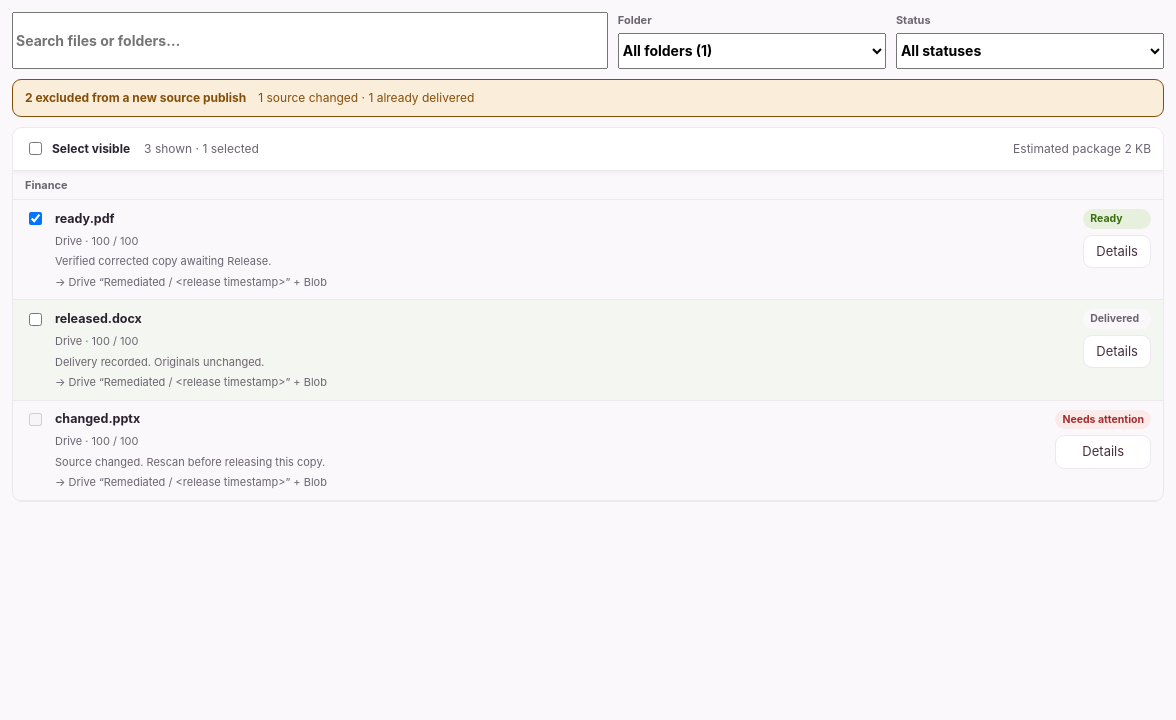
ReleaseFileSelection › filters by status and clears all filters from the empty state
Select "Source changed (1)" in the dropdown labelled "Status" at (1030, 50), box [896,32,1164,68]
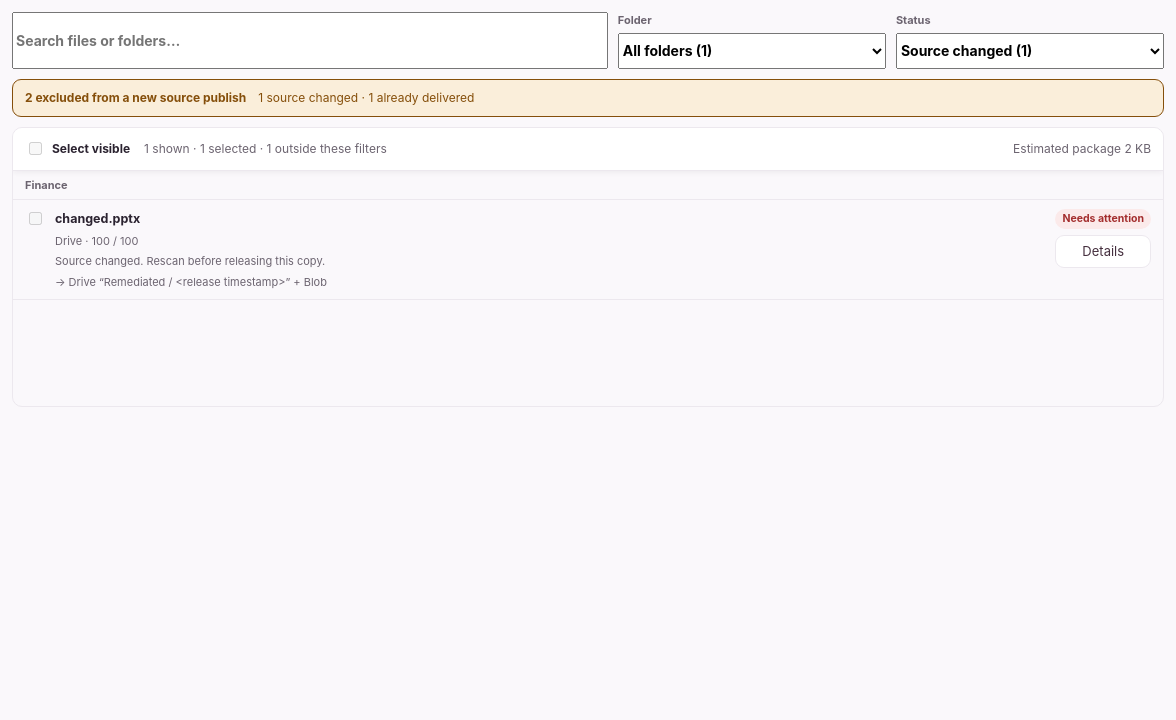
expect the text "changed.pptx" is shown: met, box [55,210,1046,228]
expect the text "ready.pdf" is gone: met
Select "Source unreachable (0)" in the dropdown labelled "Status" at (1030, 50), box [896,32,1164,68]
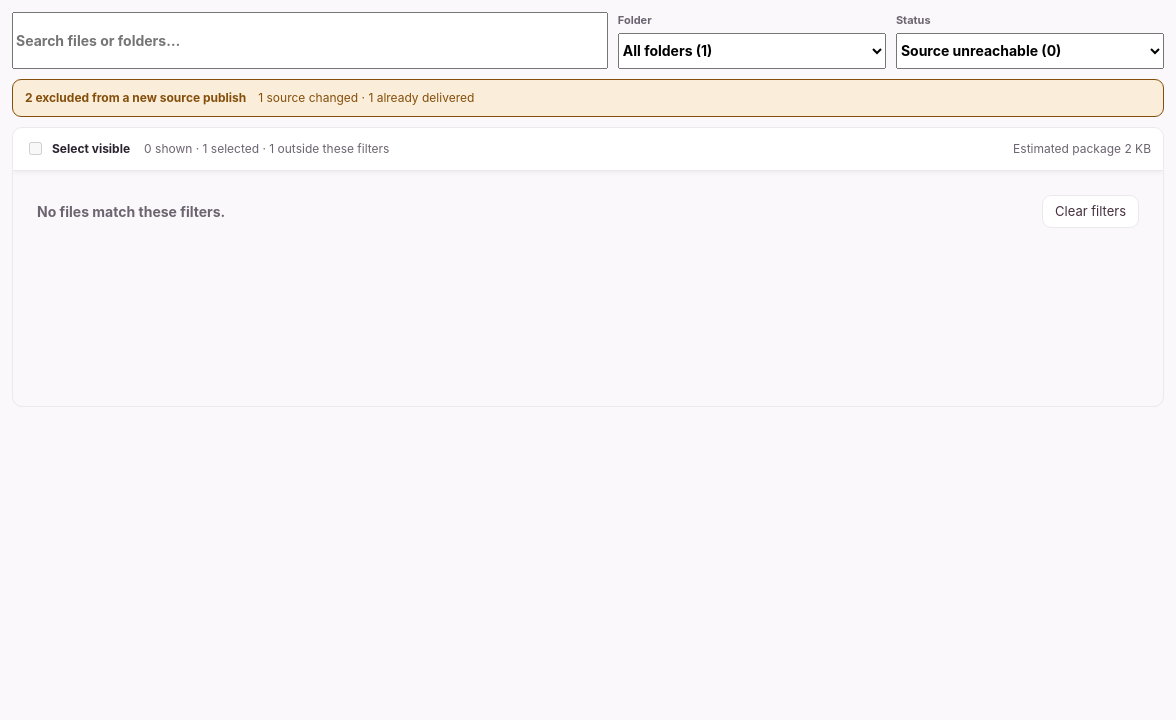
expect the text "No files match these filters" is shown: met, box [37,203,225,220]
Click the button "Clear filters" at (1090, 211), box [1042,194,1139,228]
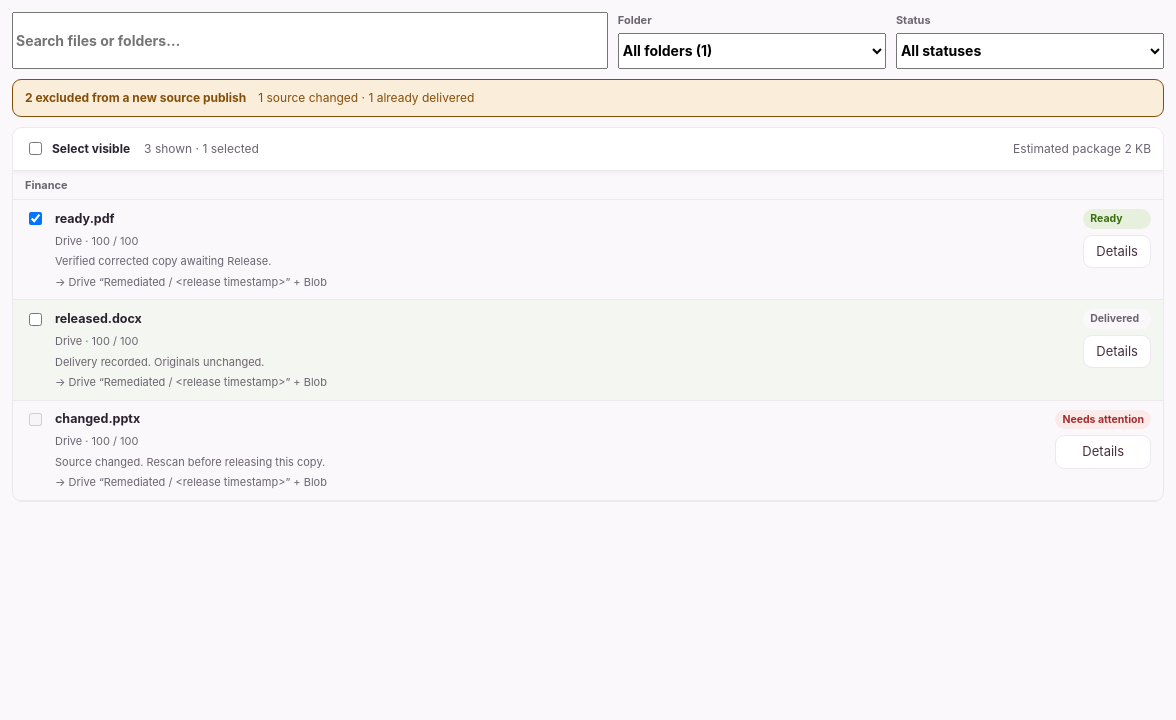
expect the text "ready.pdf" is shown: met, box [55,210,1073,228]
